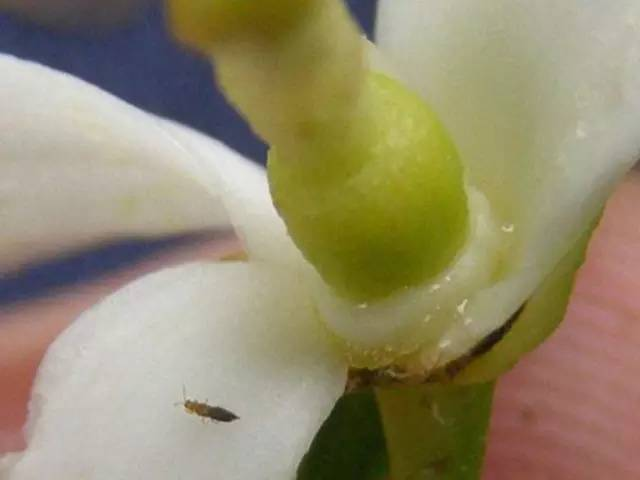thrips: (180, 388, 241, 429)
